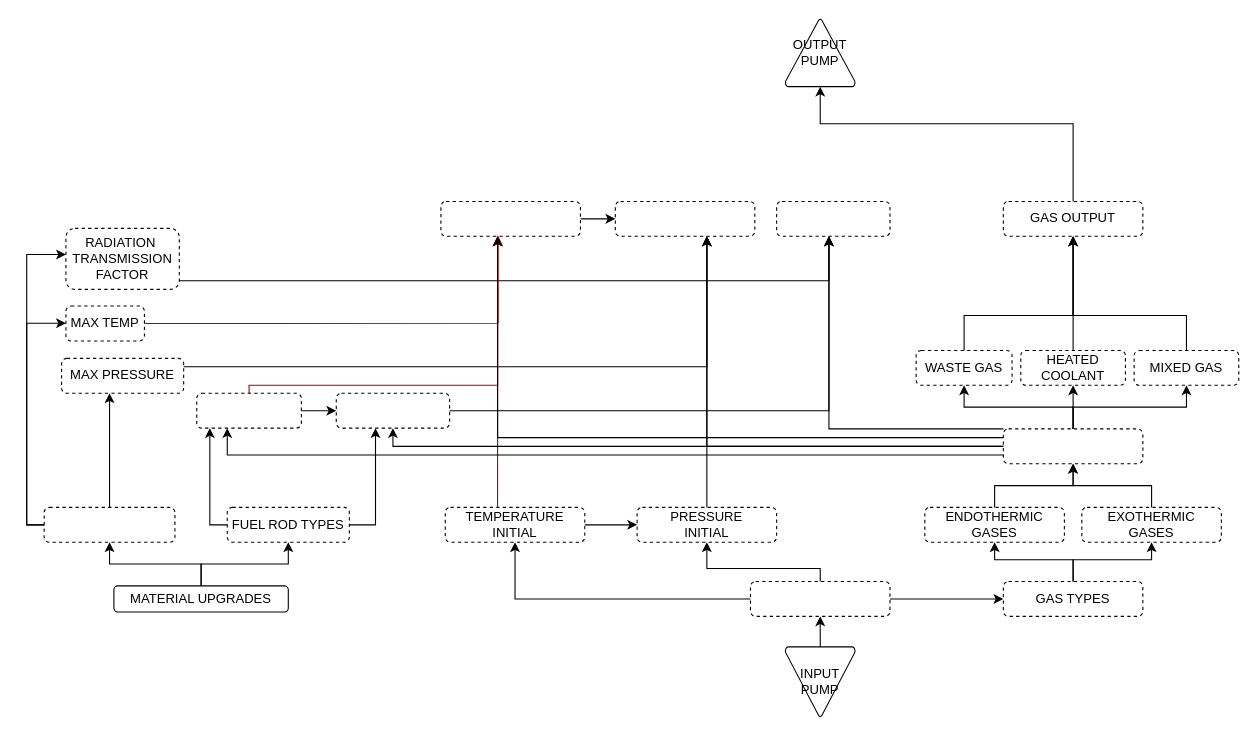
The diagram is 1258 pixels wide and 736 high, and some of its shapes have lost their labels. Here are the shapes that lost their labels. From the top down, the centre of each, then its label:
[510,218]: Δ TEMPERATURE
[684,218]: Δ PRESSURE
[833,218]: RADIATION
[248,410]: CRITICALITY (K)
[392,410]: RADIATION STRENGTH
[1072,446]: GAS MIXING
[109,524]: VESSEL MATERIAL
[819,598]: GAS INPUT
